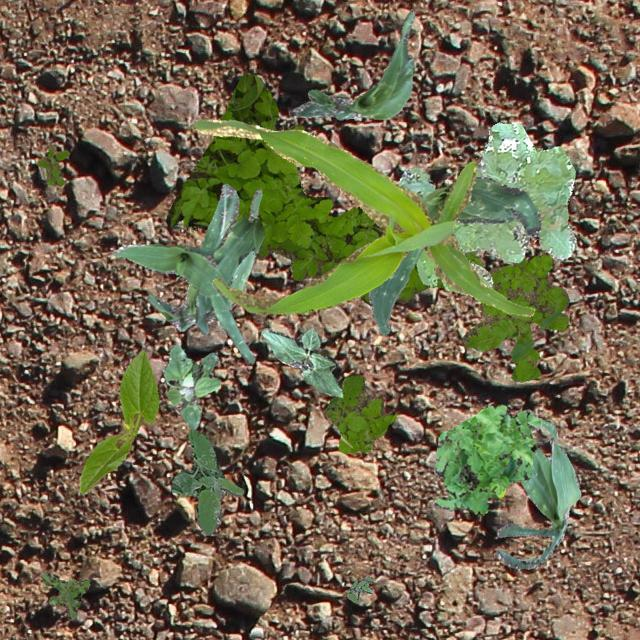crop: (194, 118, 534, 316), (368, 176, 540, 334), (110, 216, 264, 364), (147, 182, 260, 330), (288, 8, 414, 118), (492, 418, 580, 568), (78, 348, 158, 492), (260, 326, 342, 396)
weed: (166, 72, 482, 304), (397, 122, 576, 294), (462, 252, 568, 380), (432, 402, 540, 514), (170, 428, 242, 534), (324, 370, 396, 452), (162, 344, 220, 428), (41, 570, 88, 620), (36, 143, 68, 184), (346, 576, 372, 602), (534, 146, 542, 150)
